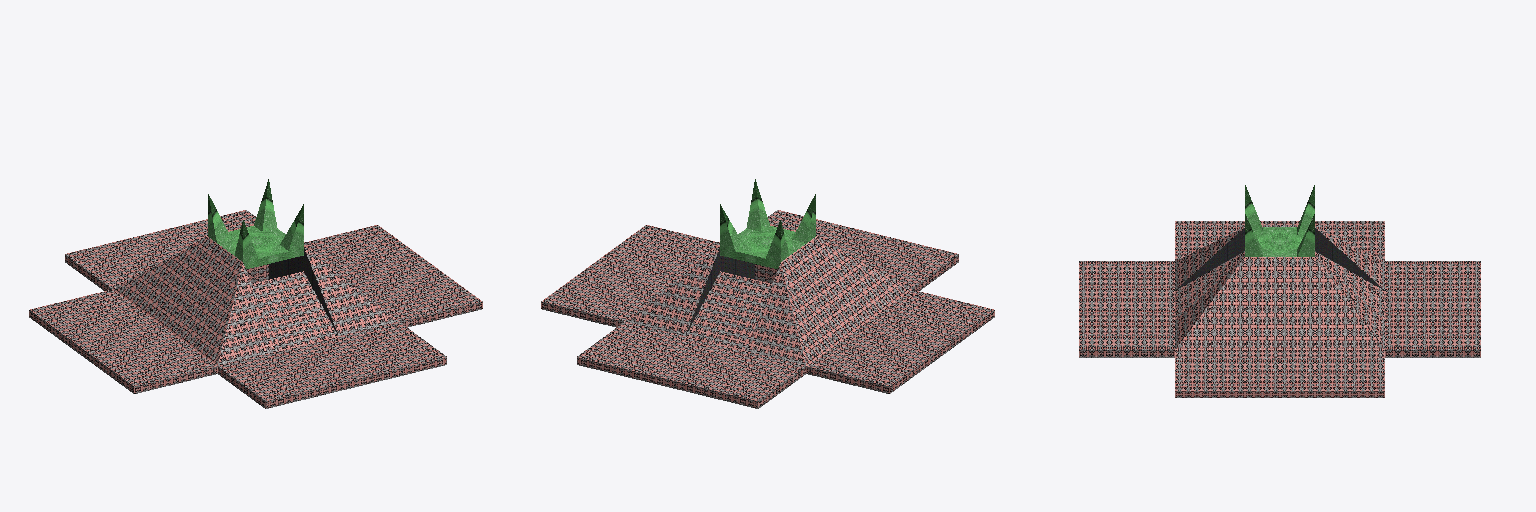
The picture shows the model from 3 angles: view 1: azimuth 30°, elevation 25°; view 2: azimuth 150°, elevation 25°; view 3: azimuth 270°, elevation 25°; orthographic projection.
Visible parts, largest first — view 1: entity0_brush11, entity0_brush12, entity0_brush9, entity0_brush14, entity0_brush10, entity0_brush15, entity0_brush17, entity0_brush16, entity0_brush7, entity0_brush6, entity0_brush8, entity0_brush5 (+1 smaller); view 2: entity0_brush10, entity0_brush12, entity0_brush9, entity0_brush14, entity0_brush11, entity0_brush18, entity0_brush19, entity0_brush20, entity0_brush6, entity0_brush7, entity0_brush5, entity0_brush8 (+1 smaller); view 3: entity0_brush13, entity0_brush9, entity0_brush10, entity0_brush11, entity0_brush12, entity0_brush16, entity0_brush20, entity0_brush15, entity0_brush18, entity0_brush17, entity0_brush19.
Boxes of the visible parts, <box> form: entity0_brush11: <box>218,322,446,408</box>; entity0_brush12: <box>29,289,217,393</box>; entity0_brush9: <box>304,225,482,327</box>; entity0_brush14: <box>113,237,242,365</box>; entity0_brush10: <box>65,210,255,290</box>; entity0_brush15: <box>252,271,338,350</box>; entity0_brush17: <box>304,248,398,335</box>; entity0_brush16: <box>218,263,277,365</box>; entity0_brush7: <box>280,204,303,258</box>; entity0_brush6: <box>254,179,276,231</box>; entity0_brush8: <box>235,220,257,268</box>; entity0_brush5: <box>208,194,231,242</box>; entity0_brush10: <box>577,322,805,408</box>; entity0_brush12: <box>806,289,994,393</box>; entity0_brush9: <box>541,225,719,327</box>; entity0_brush14: <box>781,237,910,365</box>; entity0_brush11: <box>768,210,958,290</box>; entity0_brush18: <box>685,271,771,350</box>; entity0_brush19: <box>625,248,719,335</box>; entity0_brush20: <box>746,263,805,365</box>; entity0_brush6: <box>720,204,743,258</box>; entity0_brush7: <box>747,179,769,231</box>; entity0_brush5: <box>766,220,788,268</box>; entity0_brush8: <box>792,194,815,242</box>; entity0_brush13: <box>1175,257,1384,349</box>; entity0_brush9: <box>1175,350,1384,397</box>; entity0_brush10: <box>1385,261,1480,357</box>; entity0_brush11: <box>1079,261,1174,357</box>; entity0_brush12: <box>1175,221,1384,260</box>; entity0_brush16: <box>1175,228,1244,290</box>; entity0_brush20: <box>1315,228,1384,290</box>; entity0_brush15: <box>1175,251,1244,319</box>; entity0_brush18: <box>1315,251,1384,319</box>; entity0_brush17: <box>1175,257,1244,348</box>; entity0_brush19: <box>1315,257,1384,348</box>.
Bounding box in the file's own units: 1472 × 464 × 1472.
Materials: 3 (3 with a texture image).